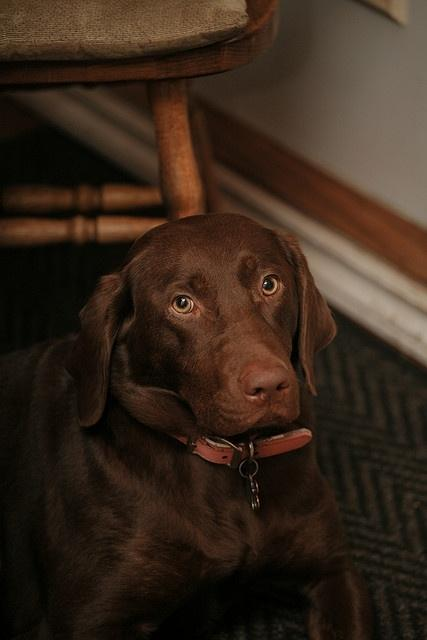dog: (0, 214, 371, 639)
